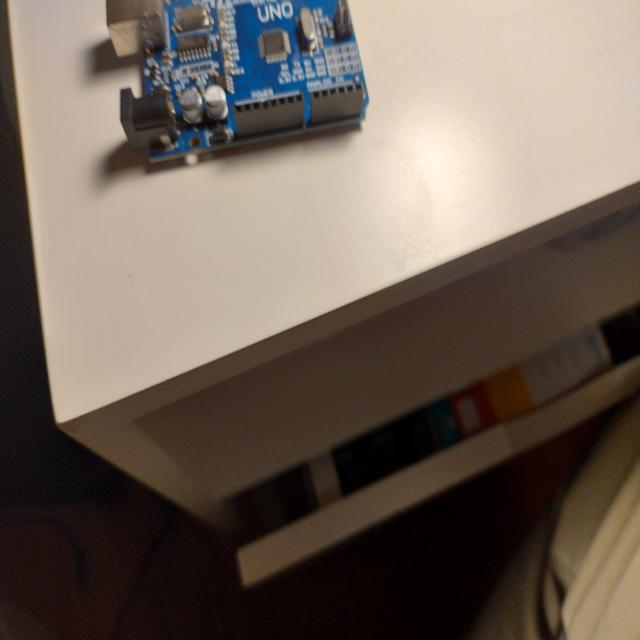arduino: (96, 0, 380, 189)
